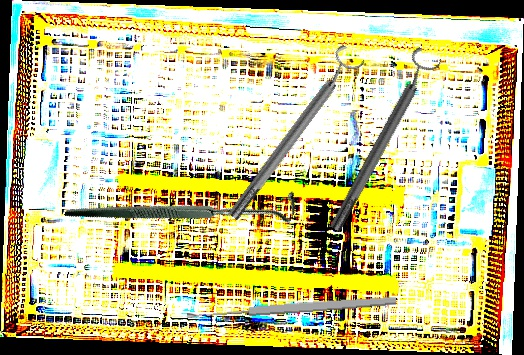Fixation Ring: (218, 43, 368, 226), (319, 45, 445, 237)
Hook Surgical: (63, 101, 304, 311)
Surgical Spoon: (186, 294, 397, 322)
